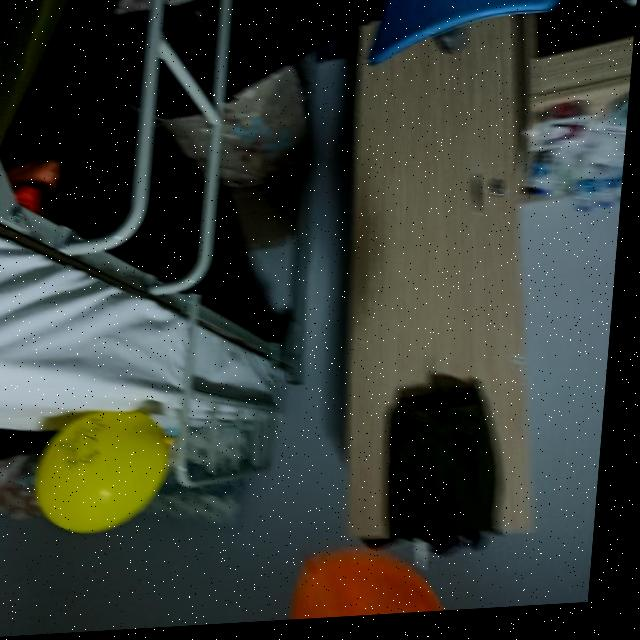balloon: (38, 409, 184, 539), (300, 547, 460, 624)
